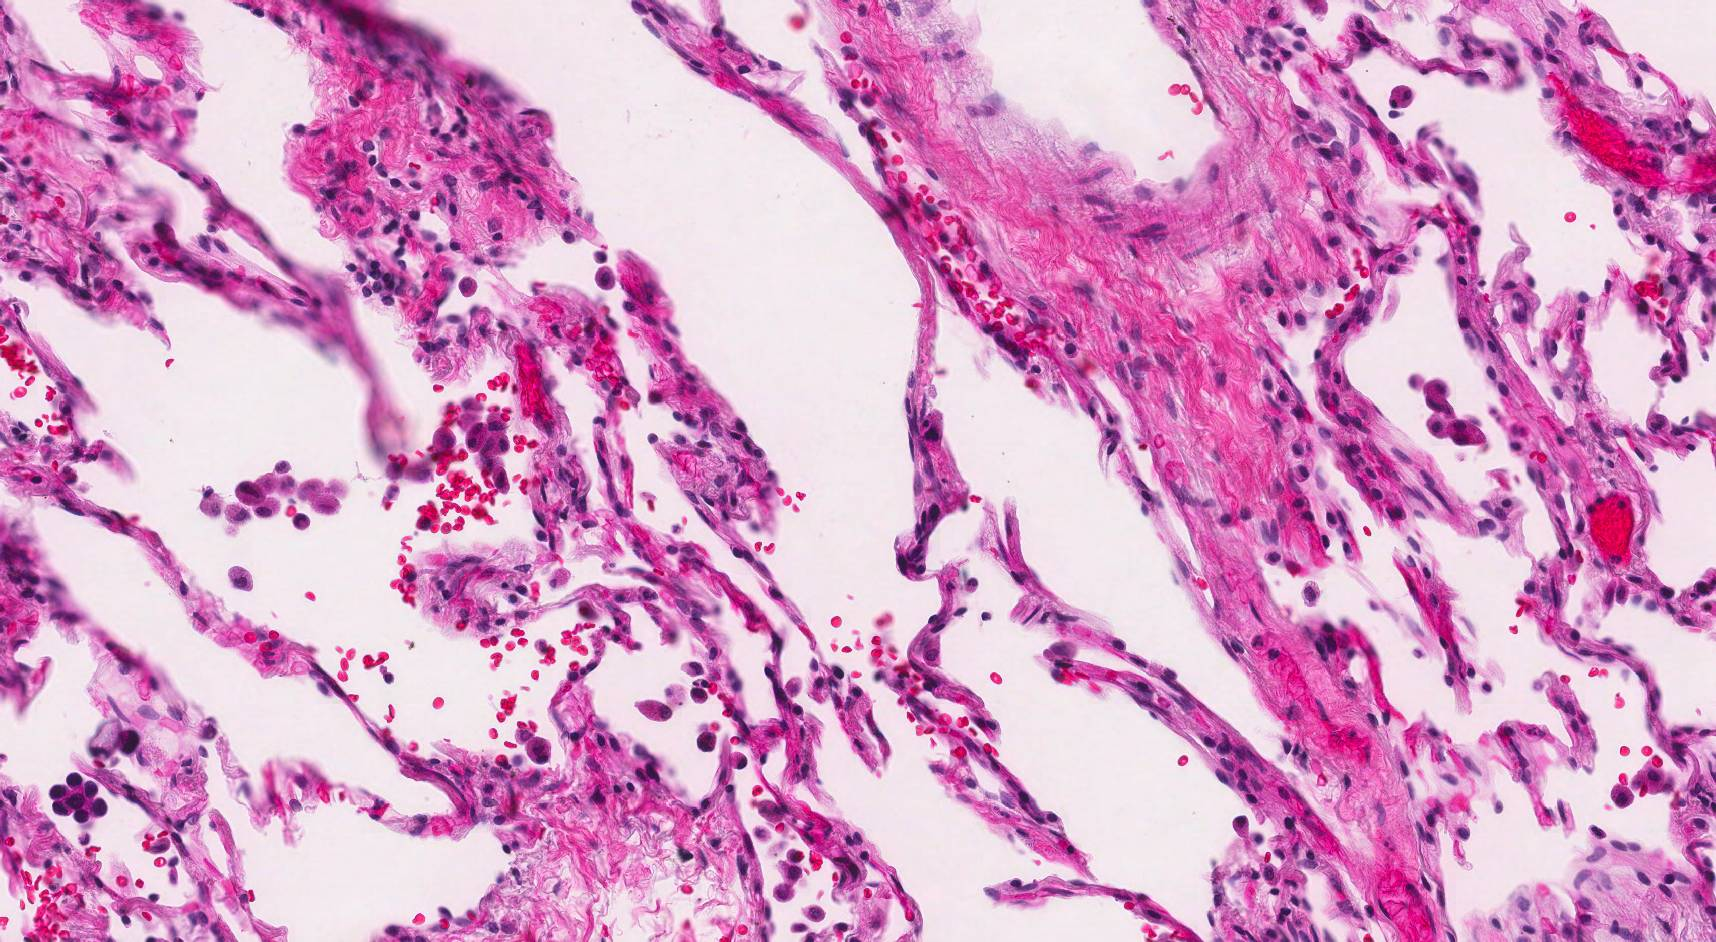stas: (46, 769, 110, 825)
